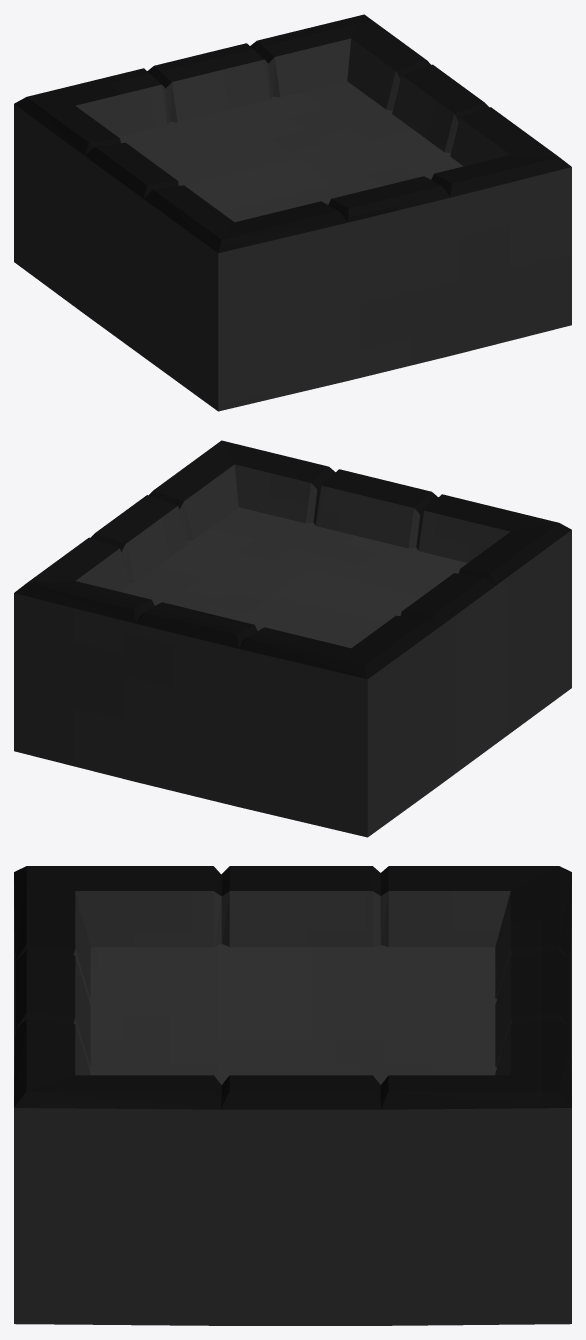
The model's file is fence.glb.
3 renders of one model, top to bottom at view 1: azimuth 30°, elevation 25°; view 2: azimuth 150°, elevation 25°; view 3: azimuth 270°, elevation 25°, orthographic. The views are drawn at different scales.
Parts seen in each view (by area): view 1: fence; view 2: fence; view 3: fence.
Boxes of the visible parts, x1,y1,x2,y2 form: fence: (14, 14, 571, 411); fence: (14, 440, 571, 837); fence: (14, 866, 571, 1325).
Size of the model in its own units: 100 by 45.44 by 100.
Materials: 1 (1 with a texture image).
